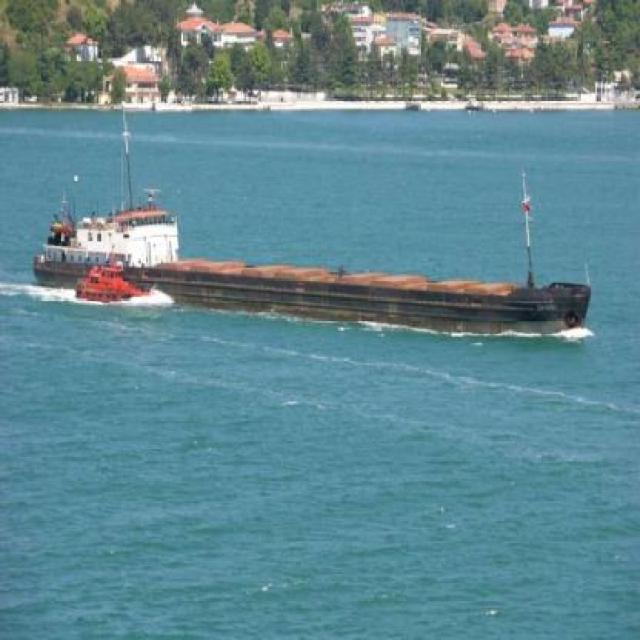ship: (48, 172, 598, 330)
